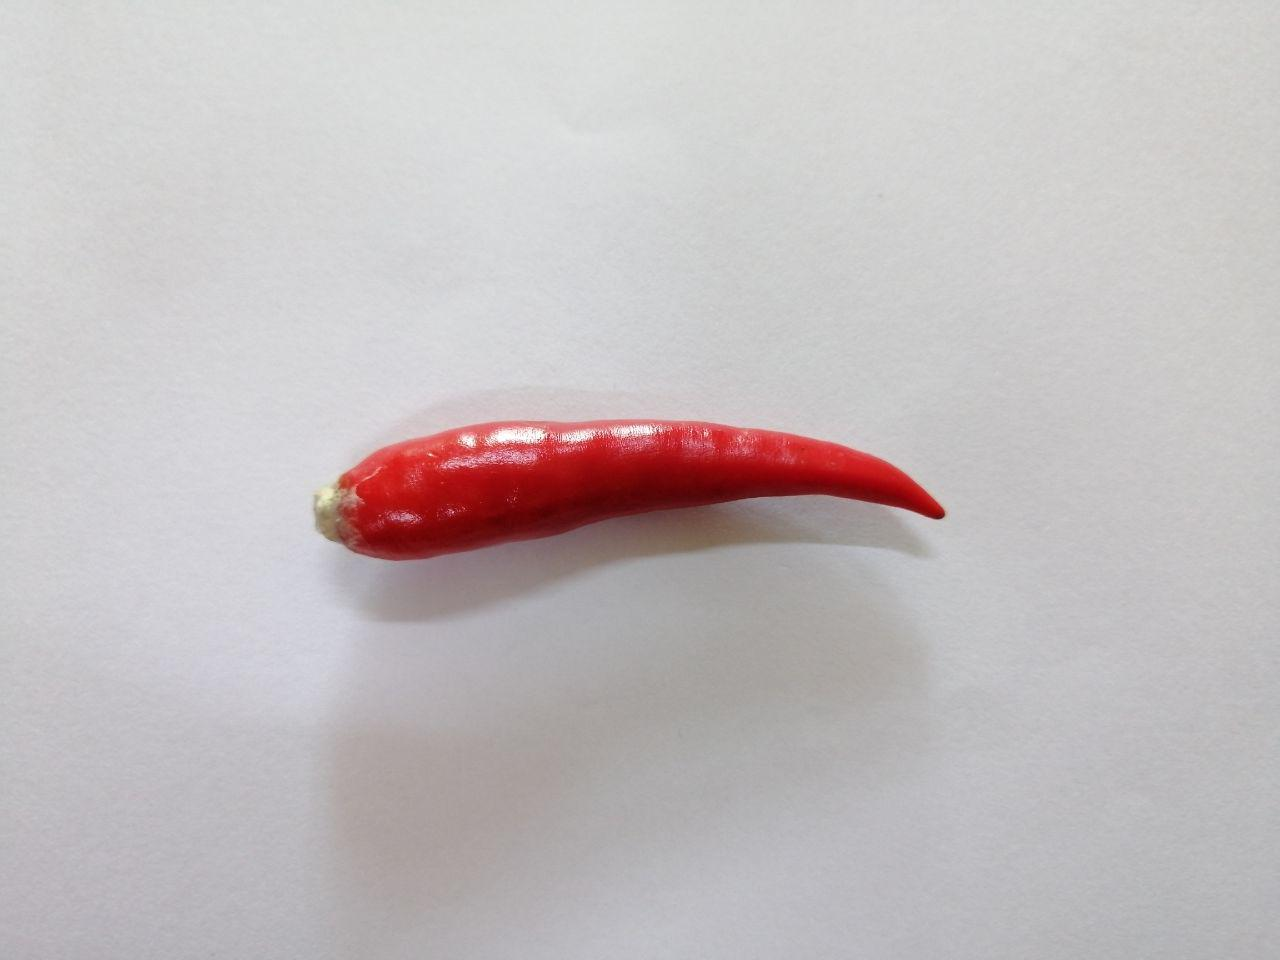lada merah: (291, 403, 963, 580)
